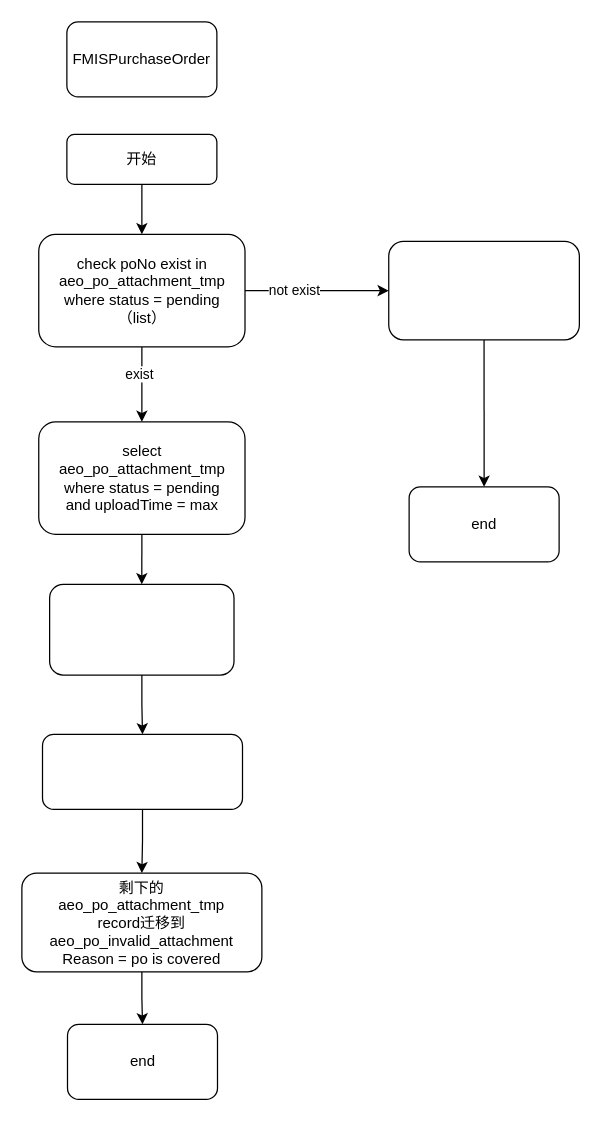
The diagram is 601 pixels wide and 1121 high, and some of its shapes have lost their labels. The shapes that lost their labels are listed below. From the top down, each one's box as (x1, y1, x2, y2) in pixels, then its label:
(388, 240, 579, 340): autoconfirm fail
(48, 583, 234, 675): change aeo_po_attachment_tmp status=moved content = null
(41, 733, 242, 809): write aeo_softcopy
